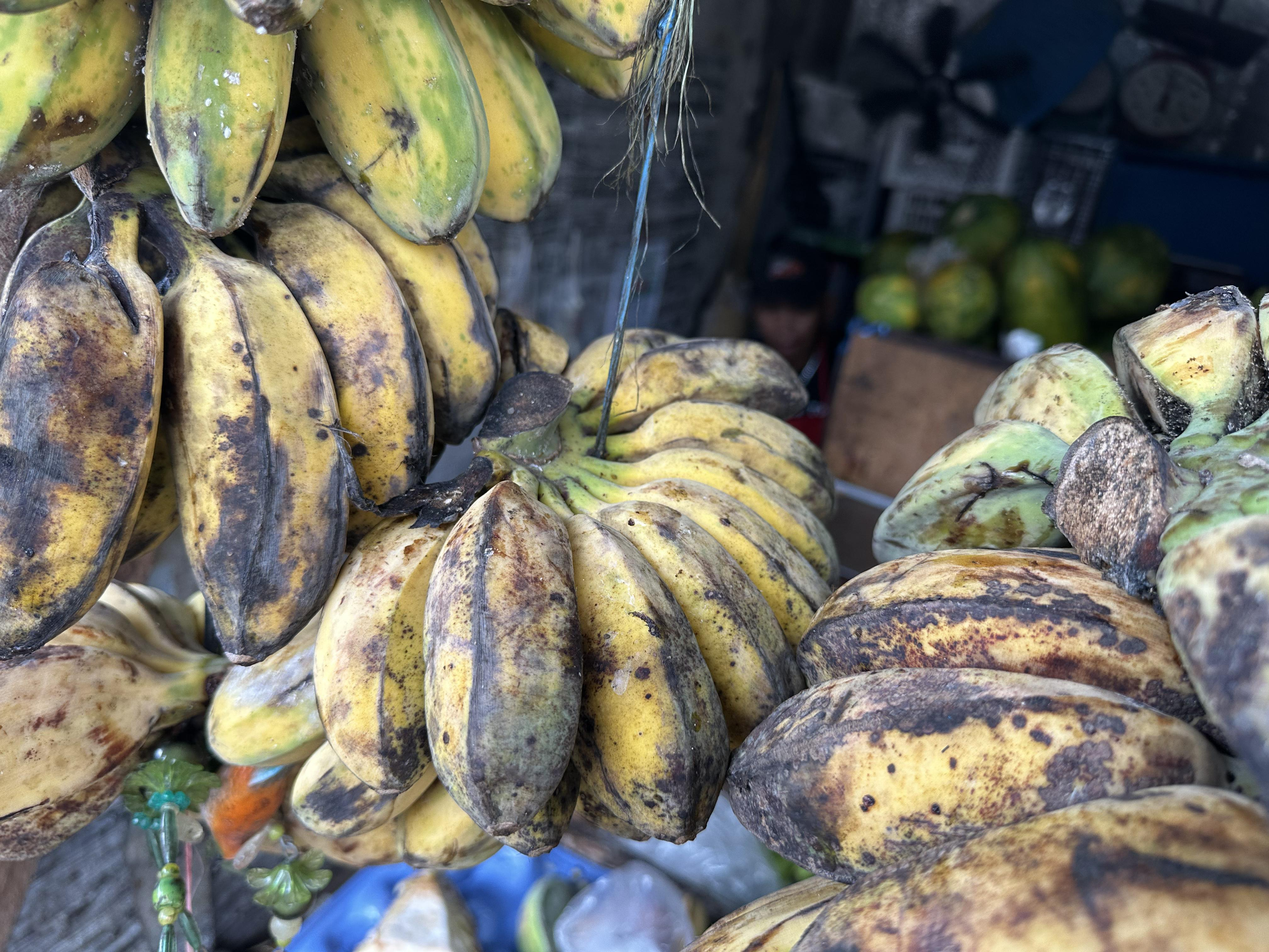ripe: (680, 286, 1269, 952), (310, 304, 840, 858), (0, 165, 503, 666)
underripe: (0, 0, 675, 246)
